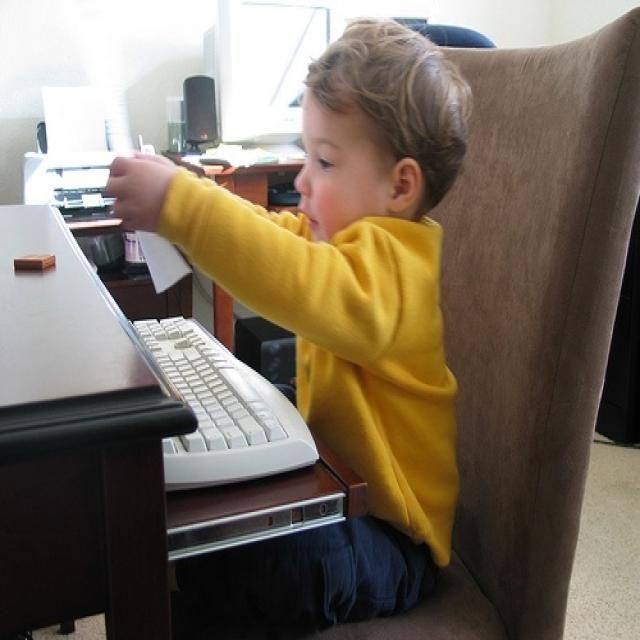chair: (310, 5, 638, 638)
